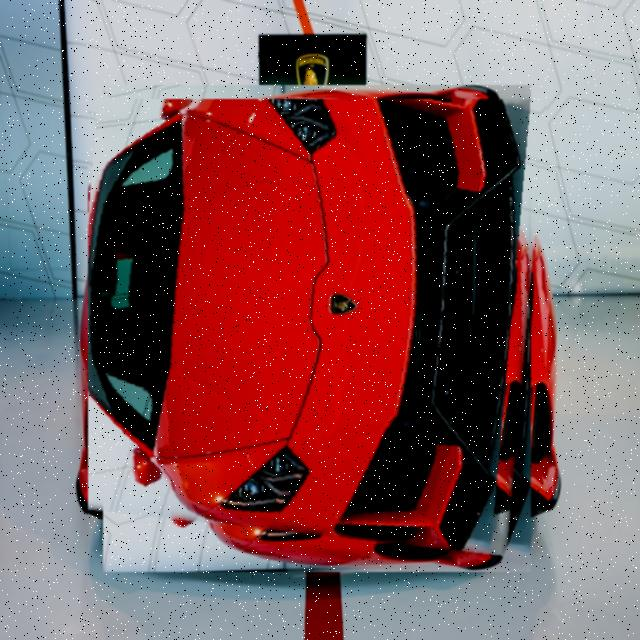car: (89, 101, 548, 559)
